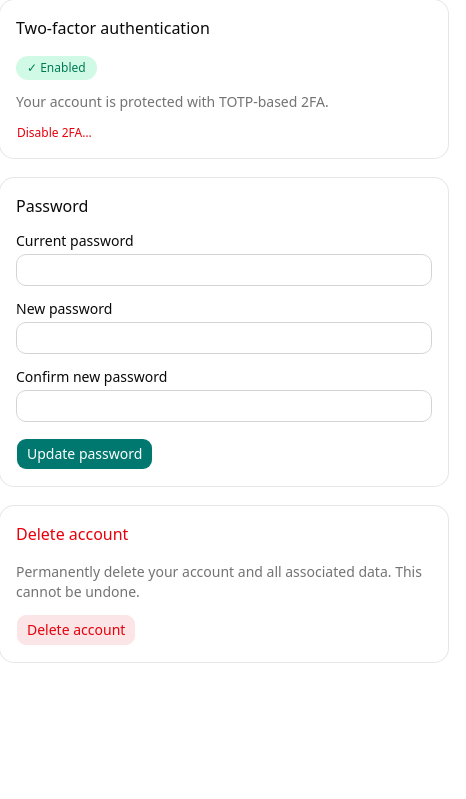
Scenario: SecurityTab — 2FA already enabled › Cancel closes the disable form
Click the button "Disable 2FA…" at [54, 133], box x1=16 y1=124 x2=93 y2=142
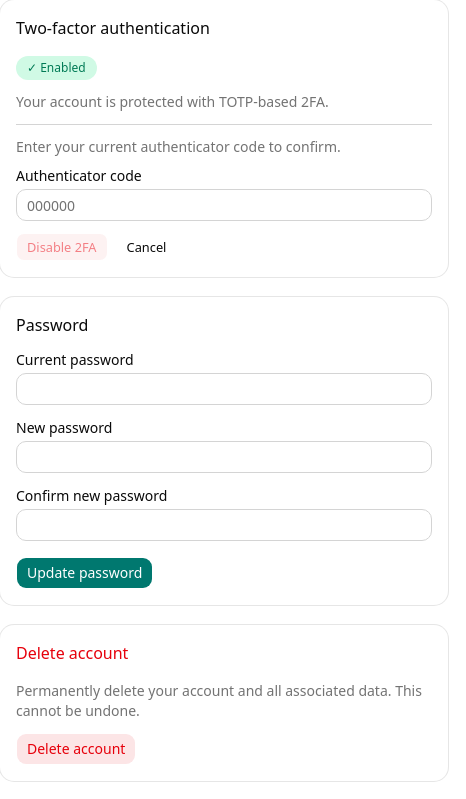
Click the button "Cancel" at [146, 247], box x1=116 y1=233 x2=177 y2=261
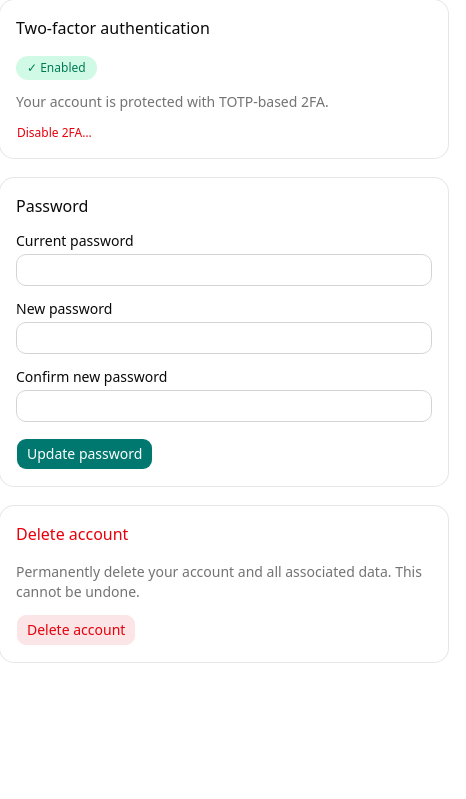
Expected: the text labelled "authenticator code" is gone
Expected: the button "Disable 2FA…" is shown, x1=16 y1=124 x2=93 y2=142
